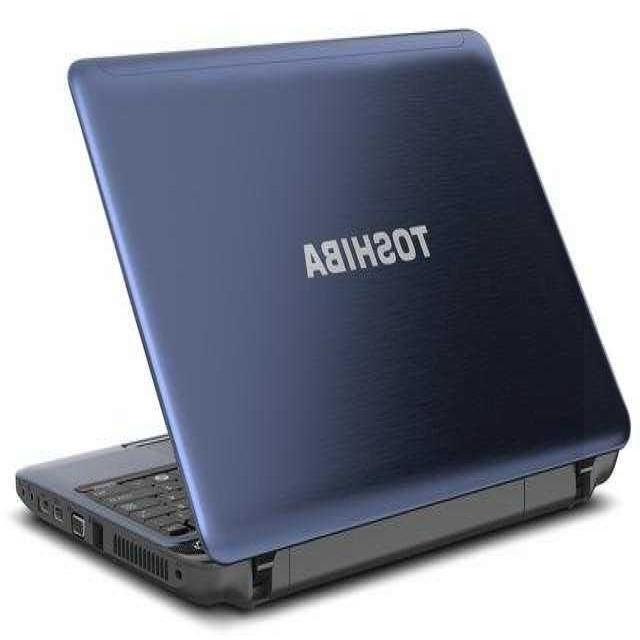-keyboard-: (23, 33, 584, 598)
